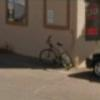bicycles: (40, 35, 72, 68)
